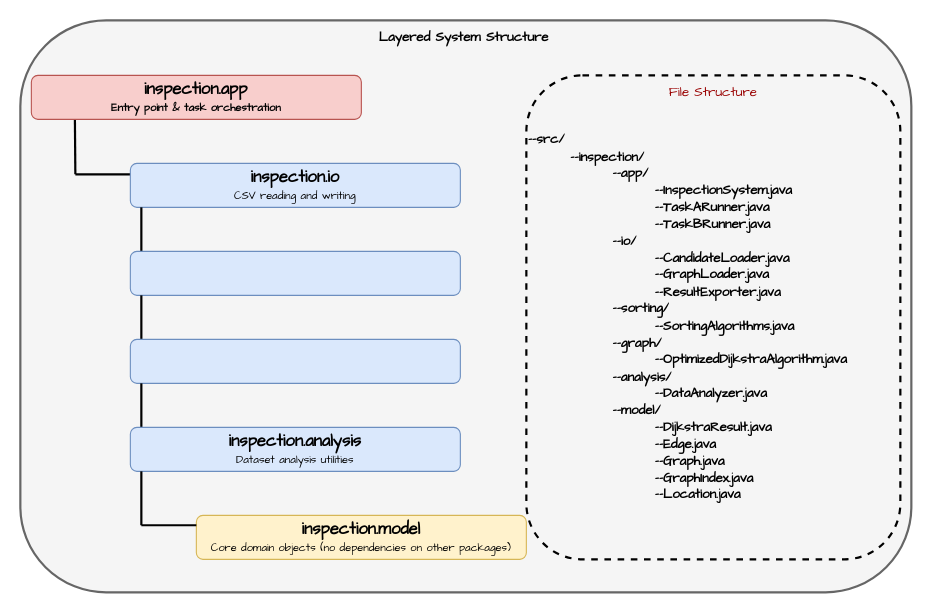
Image size: 931x612. Some labels were removed from this diagram. Here are the shapes that lost their labels. From the top down, the centre of each, then its label:
At point (294, 272): "inspection.sorting Sorting algorithm implementations".
At point (294, 360): "inspection.graph Graph search algorithms".
